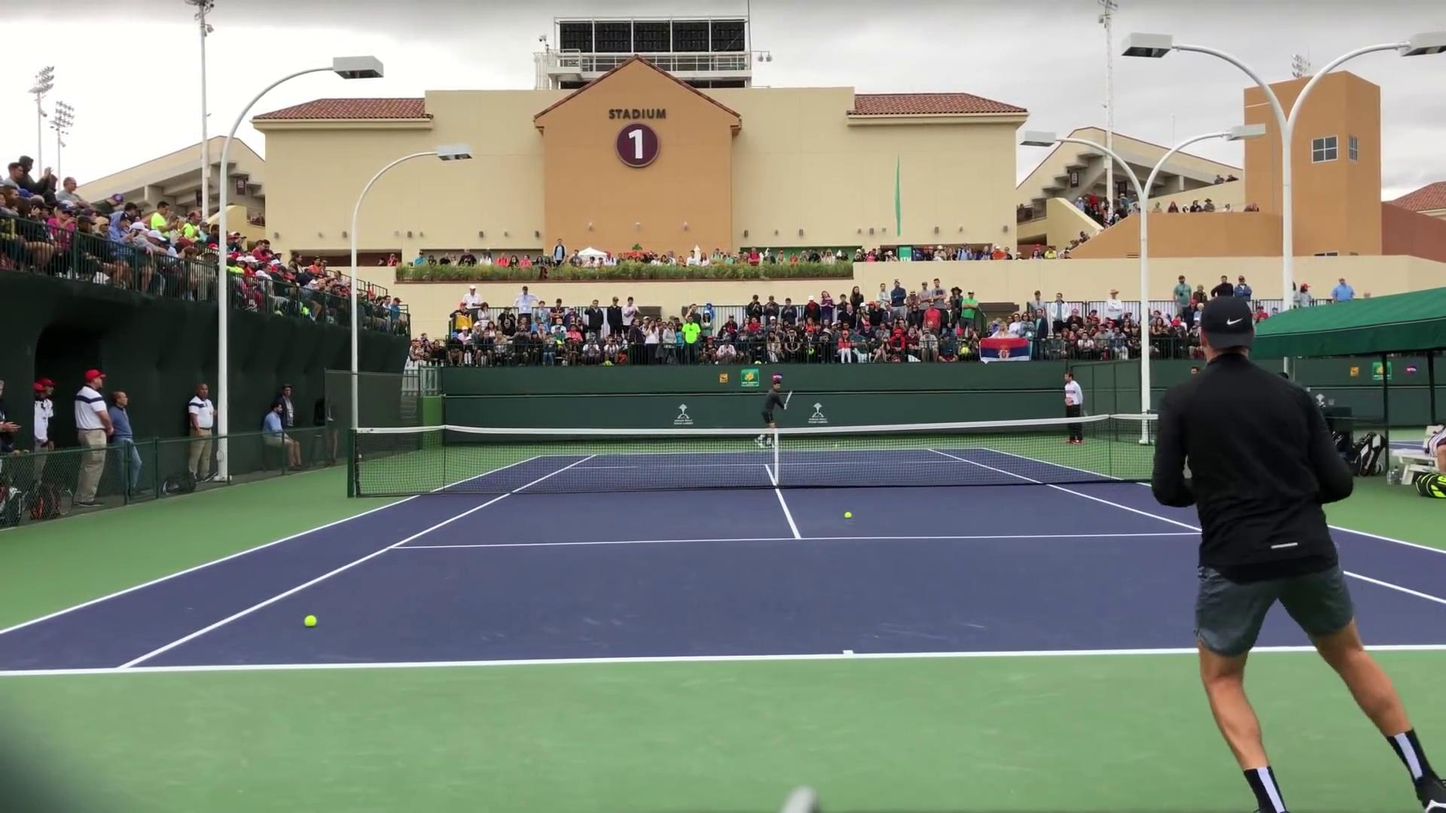ball: (830, 440, 845, 454), (303, 614, 318, 627), (844, 512, 852, 519)
